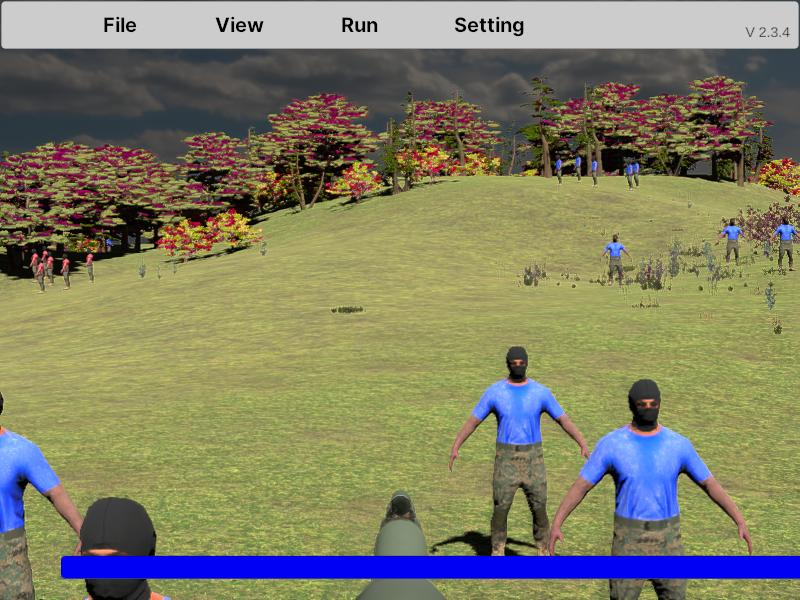Human: (549, 378, 754, 599), (449, 342, 590, 568), (0, 377, 88, 598), (601, 234, 632, 287), (717, 217, 746, 273), (772, 216, 800, 273)
